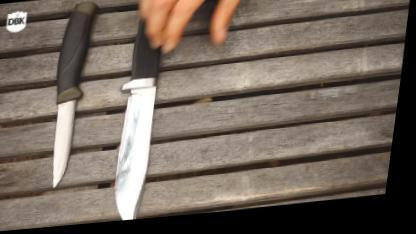knife: (100, 15, 198, 224), (41, 84, 92, 195)
